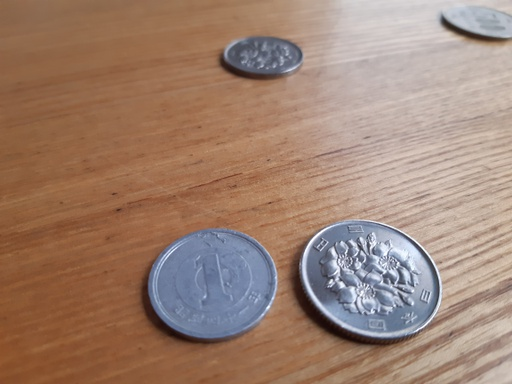100yen: (300, 220, 441, 345), (223, 37, 302, 78)
1yen: (148, 228, 277, 342)
